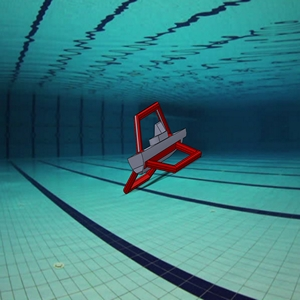submarine: (112, 95, 208, 204)
